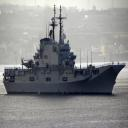Portanaves: (3, 4, 127, 97)
